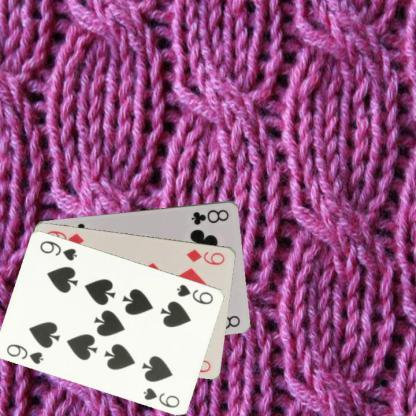8c: (189, 206, 231, 226)
9d: (184, 246, 226, 266)
9s: (4, 341, 46, 366), (174, 281, 215, 306)
